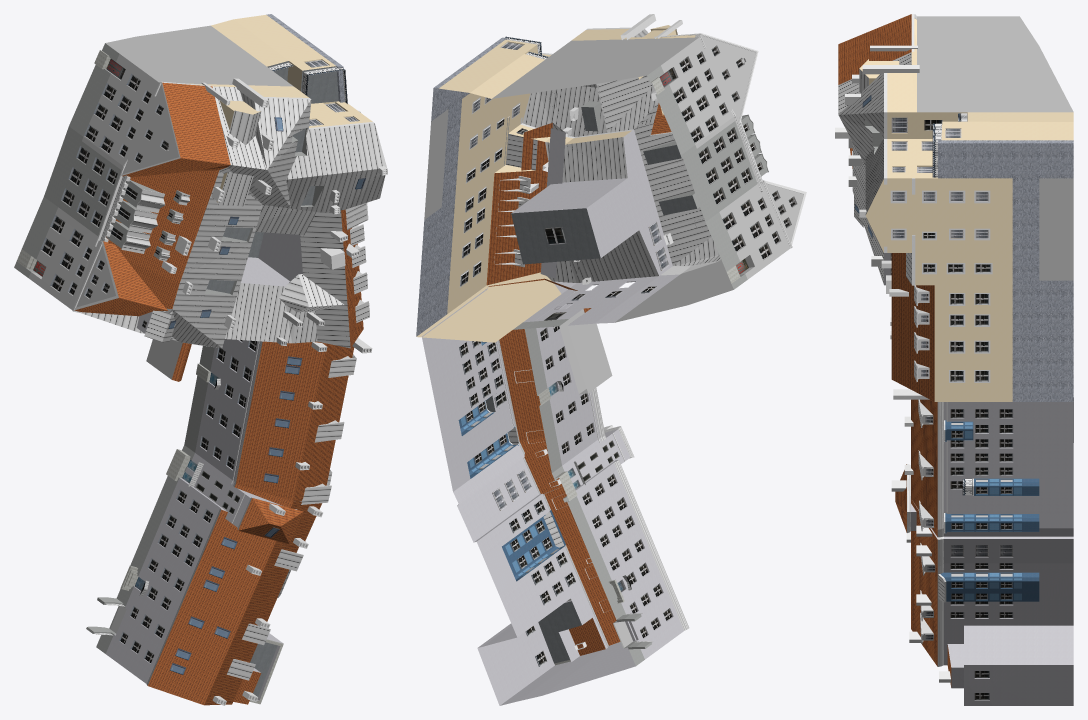
The model's file is Pikk_54.obj.
3 views of the same model, side by side, from view 1: azimuth 30°, elevation 25°; view 2: azimuth 150°, elevation 25°; view 3: azimuth 270°, elevation 25° (orthographic). The views are drawn at different scales.
Parts seen in each view (by area): view 1: pikk54, xxx; view 2: pikk54, xxx; view 3: pikk54, xxx.
Part boxes in pixels (x1,y1,x2,y2): pikk54: (14,14,387,705); xxx: (105,25,293,86); pikk54: (416,14,806,705); xxx: (424,37,733,394); pikk54: (835,14,1073,705); xxx: (917,16,1073,280).
Bounding box in the file's own units: 40.65 × 85.51 × 29.18.
